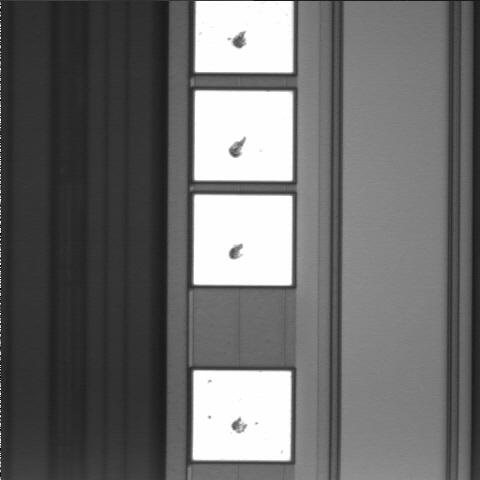pad: (194, 91, 293, 181), (194, 195, 292, 285), (193, 371, 291, 461)
